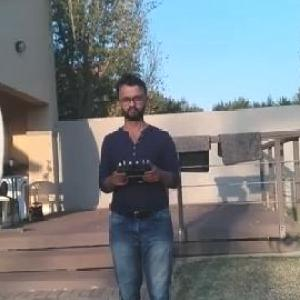follow: (95, 65, 189, 299)
